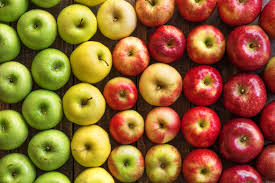apple: (64, 83, 106, 127), (227, 27, 272, 68), (139, 66, 182, 108), (72, 45, 113, 85), (31, 46, 70, 88), (222, 118, 261, 160), (144, 27, 188, 64), (186, 25, 225, 66), (184, 66, 225, 104), (27, 132, 70, 168), (72, 126, 111, 165), (225, 74, 263, 114), (144, 106, 182, 144), (18, 11, 56, 48), (115, 37, 150, 76), (184, 109, 222, 144), (98, 2, 136, 35), (182, 151, 222, 182), (108, 146, 144, 180), (24, 92, 59, 126), (107, 75, 141, 110), (147, 146, 182, 180), (60, 7, 96, 40), (133, 1, 176, 28), (110, 113, 145, 143), (2, 154, 36, 182), (221, 1, 260, 24), (178, 3, 215, 24), (225, 165, 260, 183)
